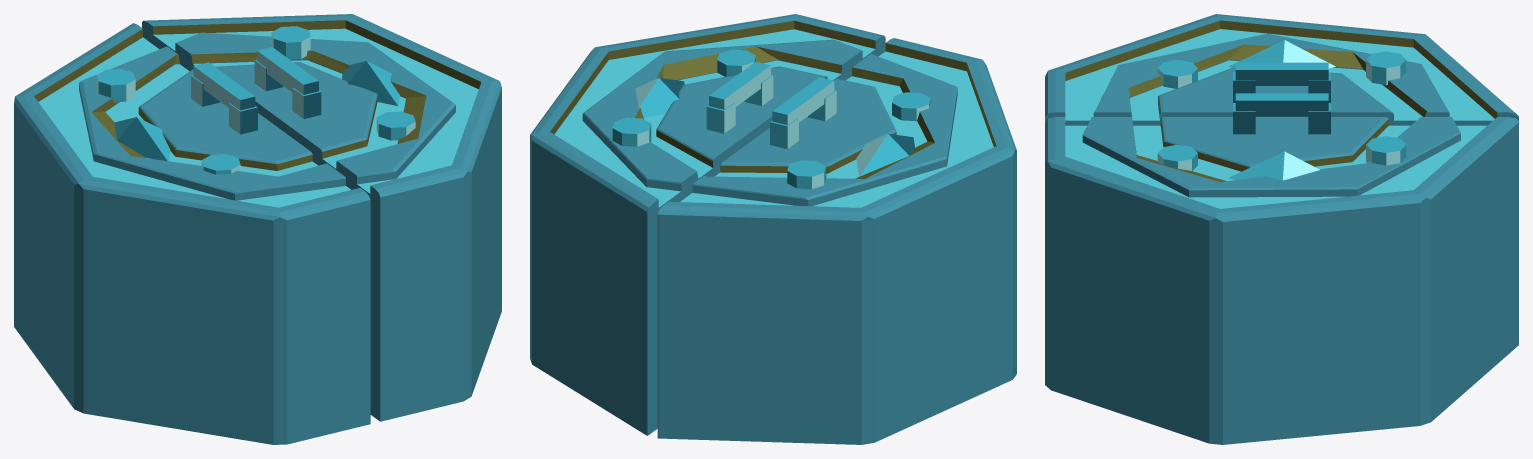
Rendered from diamond_door.fbx.
The picture shows the model from 3 angles, left to right: view 1: azimuth 30°, elevation 25°; view 2: azimuth 150°, elevation 25°; view 3: azimuth 270°, elevation 25°; orthographic projection.
Visible parts, largest first — view 1: diamond_door_panel_left, diamond_door_panel_right; view 2: diamond_door_panel_left, diamond_door_panel_right; view 3: diamond_door_panel_right, diamond_door_panel_left.
Boxes of the visible parts, box(x1,y1,x2,y2) form: diamond_door_panel_left: box(14, 23, 370, 444); diamond_door_panel_right: box(142, 14, 501, 421); diamond_door_panel_left: box(657, 38, 1016, 444); diamond_door_panel_right: box(530, 14, 885, 435); diamond_door_panel_right: box(1045, 93, 1518, 444); diamond_door_panel_left: box(1045, 14, 1518, 125).
Bounding box in the file's own units: 3.87 × 2.29 × 3.78.
Materials: 1 (1 with a texture image).
